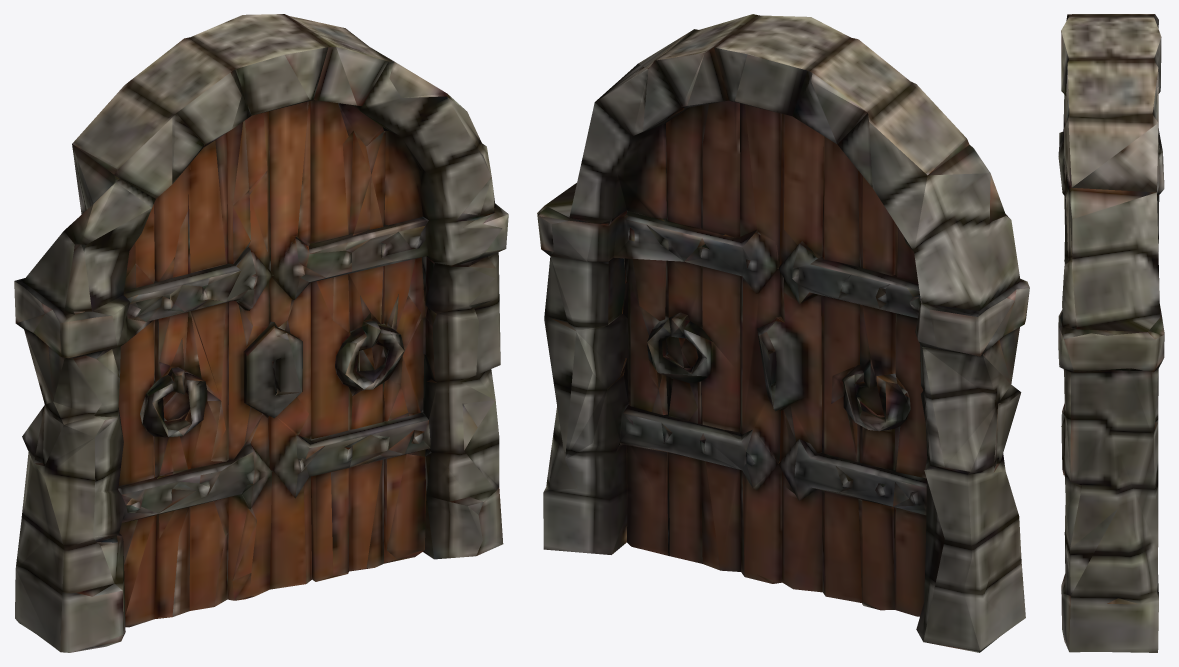
3 renders of one model, left to right at view 1: azimuth 30°, elevation 25°; view 2: azimuth 150°, elevation 25°; view 3: azimuth 270°, elevation 25°, orthographic. The views are drawn at different scales.
Visible parts, largest first — view 1: Mesh_0; view 2: Mesh_0; view 3: Mesh_0.
Boxes of the visible parts, x1=… form: Mesh_0: x1=14, y1=14, x2=508, y2=652; Mesh_0: x1=537, y1=14, x2=1029, y2=652; Mesh_0: x1=1058, y1=14, x2=1164, y2=652.
Bounding box in the file's own units: 1.91 × 2.25 × 0.4147.
1 material, 1 textured.
